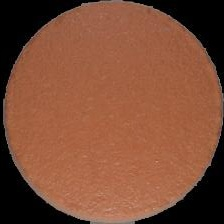53808-0350: (0, 0, 224, 224)
